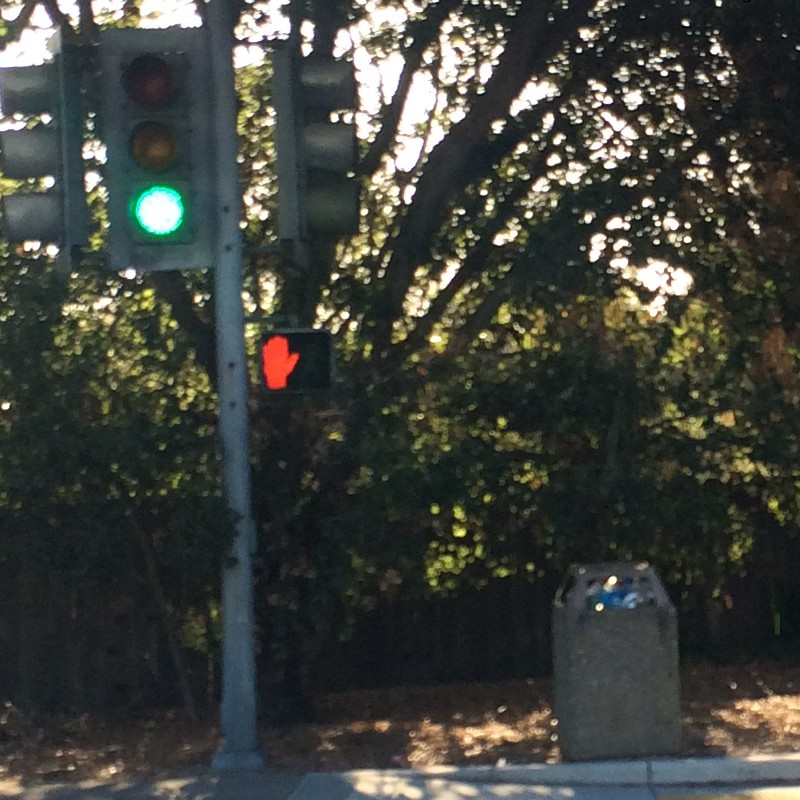stop: (255, 330, 337, 402)
